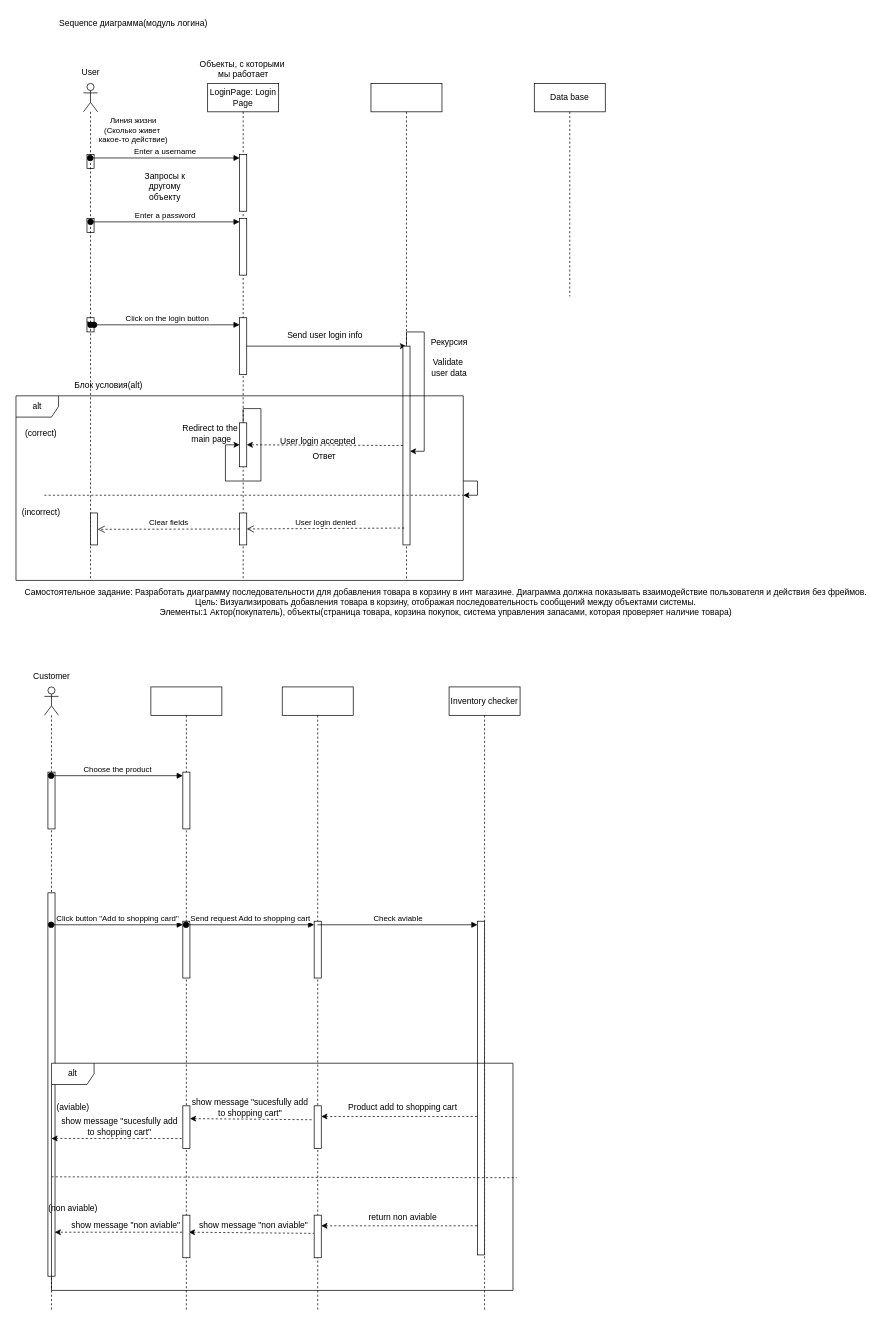
This 887x1324 diagram has some shape labels left out. The shapes that lost their labels are listed below. From the top down, each one's centre as x and y in pixels, then its label:
[406,331]: Aunthentication: Aunthentication Module
[186,999]: Shopping page
[317,999]: Shopping cart
